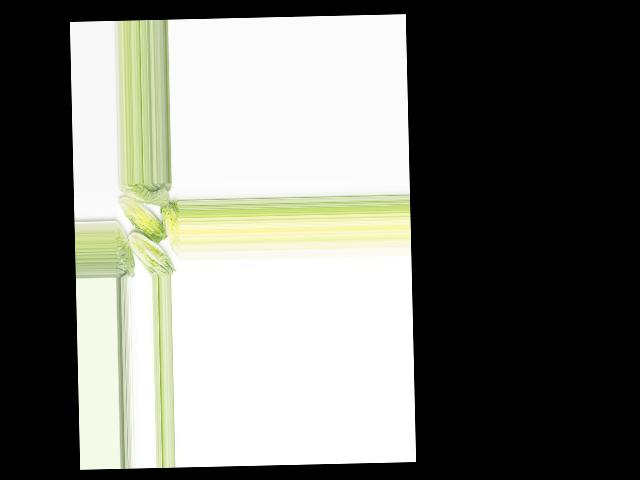lettuce: (120, 182, 172, 208)
